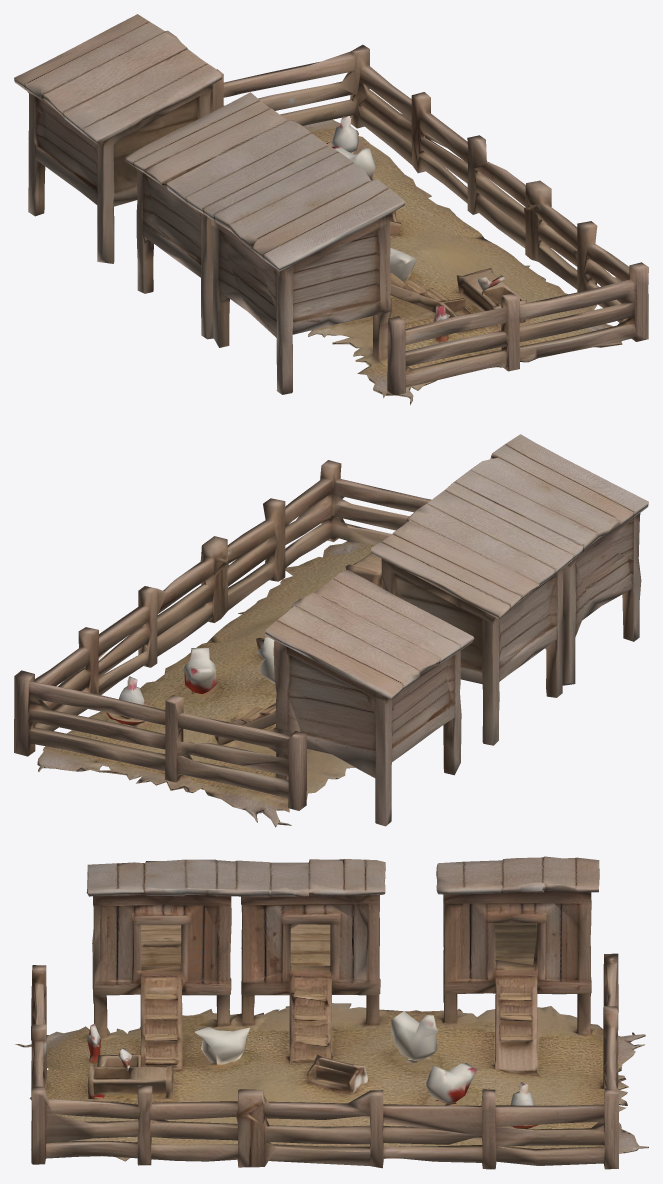
File: tripo_convert_4998eebd-0122-4485-b94b-ef9b938b32e7.fbx
The picture shows the model from 3 angles, top to bottom: view 1: azimuth 30°, elevation 25°; view 2: azimuth 150°, elevation 25°; view 3: azimuth 270°, elevation 25°; orthographic projection. The views are drawn at different scales.
Parts seen in each view (by area): view 1: tripo_node_4998eebd; view 2: tripo_node_4998eebd; view 3: tripo_node_4998eebd.
Boxes of the visible parts, x1,y1,x2,y2 form: tripo_node_4998eebd: (14,14,648,405); tripo_node_4998eebd: (14,434,648,827); tripo_node_4998eebd: (15,856,648,1169).
Size of the model in its own units: 0.6481 by 0.3011 by 1.
Materials: 1 (1 with a texture image).
